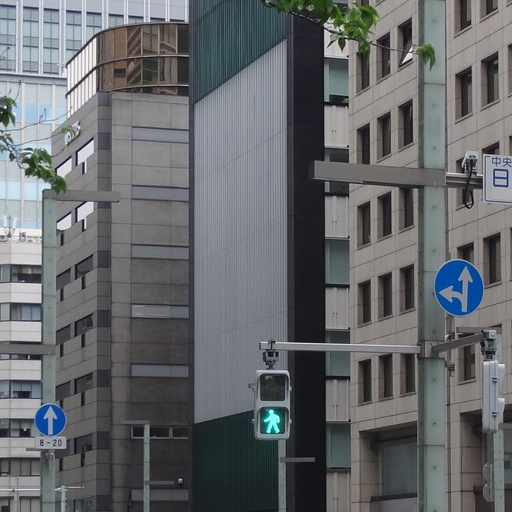Pedestrian_Signal_Blue: (252, 359, 292, 442)
